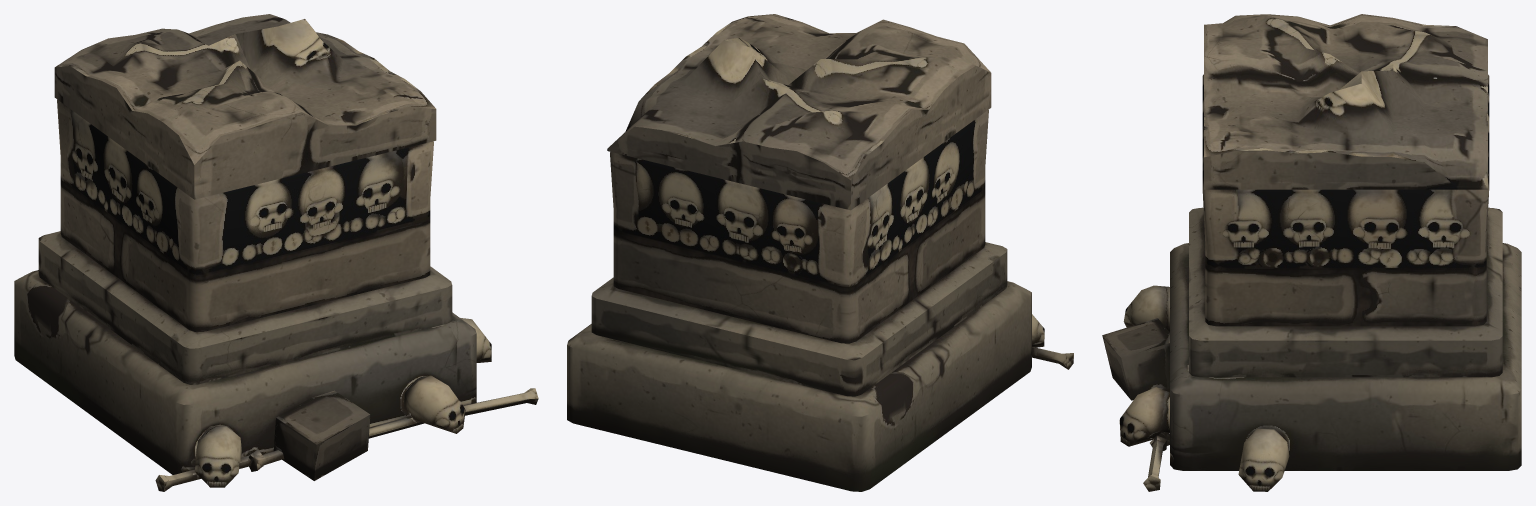
The model's file is catacomb_pillar_low.glb.
3 views of the same model, side by side, from view 1: azimuth 30°, elevation 25°; view 2: azimuth 150°, elevation 25°; view 3: azimuth 270°, elevation 25° (orthographic).
Parts seen in each view (by area): view 1: catacomb_pillar_low; view 2: catacomb_pillar_low; view 3: catacomb_pillar_low.
Boxes of the visible parts, x1,y1,x2,y2 form: catacomb_pillar_low: (14,14,538,491); catacomb_pillar_low: (567,14,1073,491); catacomb_pillar_low: (1102,14,1521,491).
Size of the model in its own units: 1.64 by 1.43 by 1.55.
1 material, 1 textured.
